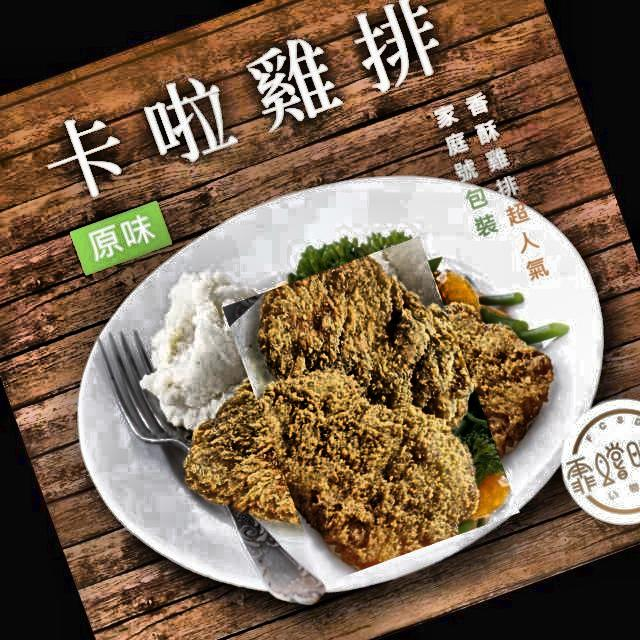Food: (210, 248, 532, 572)
